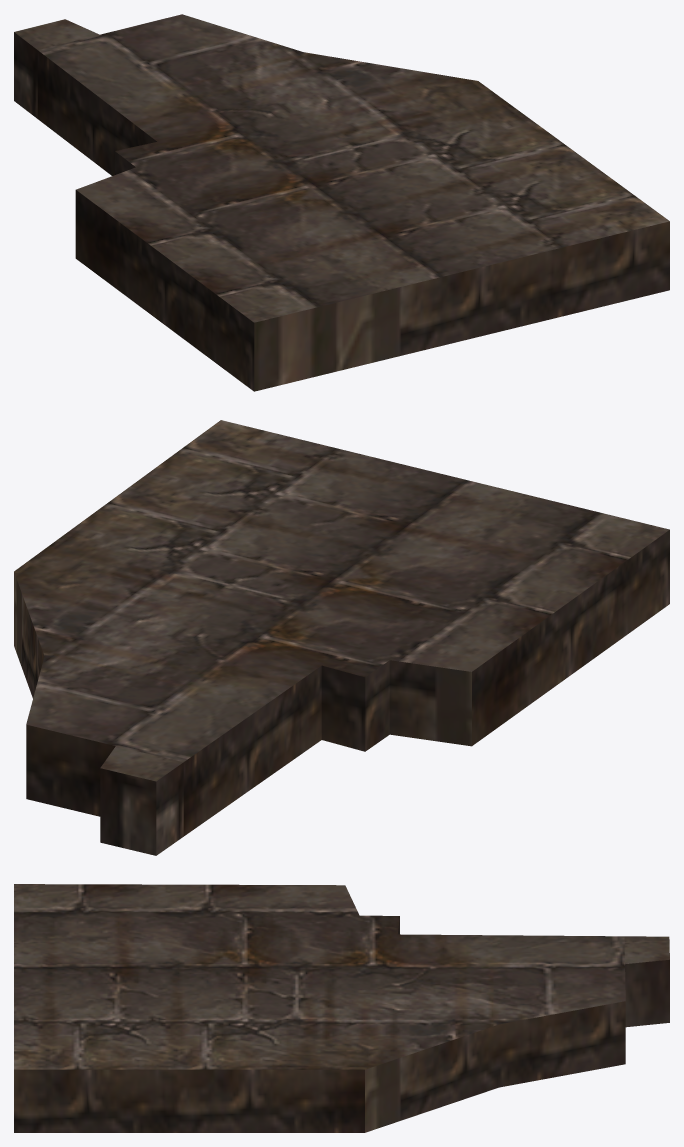
The model's file is blsd_4suishi_08.FBX.
The picture shows the model from 3 angles, top to bottom: view 1: azimuth 30°, elevation 25°; view 2: azimuth 150°, elevation 25°; view 3: azimuth 270°, elevation 25°; orthographic projection. The views are drawn at different scales.
Parts seen in each view (by area): view 1: blsd_4suishi_08; view 2: blsd_4suishi_08; view 3: blsd_4suishi_08.
Boxes of the visible parts, x1,y1,x2,y2 form: blsd_4suishi_08: (14, 14, 669, 391); blsd_4suishi_08: (14, 420, 669, 855); blsd_4suishi_08: (14, 884, 669, 1132).
Bounding box in the file's own units: 232 × 36.76 × 346.
